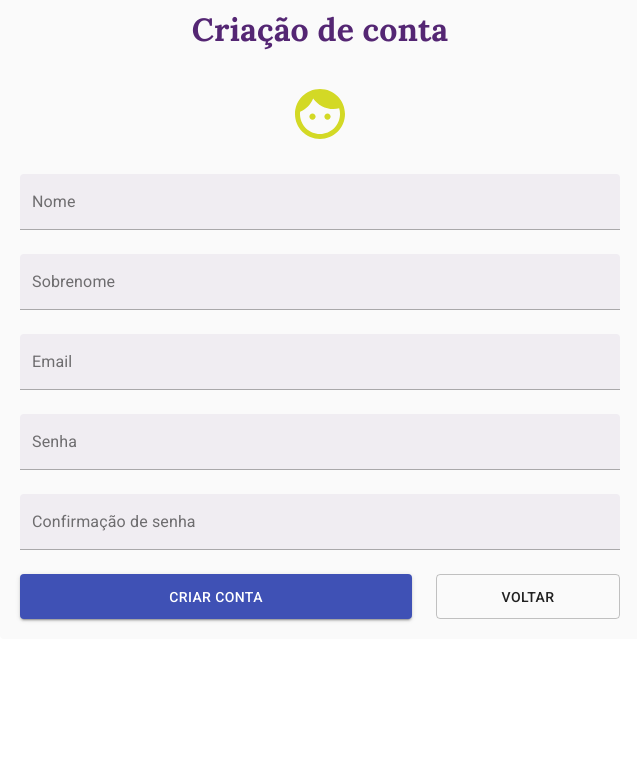
Test: should register user successfully when all fields is correctly filled
This screenshot has width=637, height=765.
Step 1. Type "Renato" into the field with id "register-user-first-name" → (320,202), box [20, 174, 620, 230]
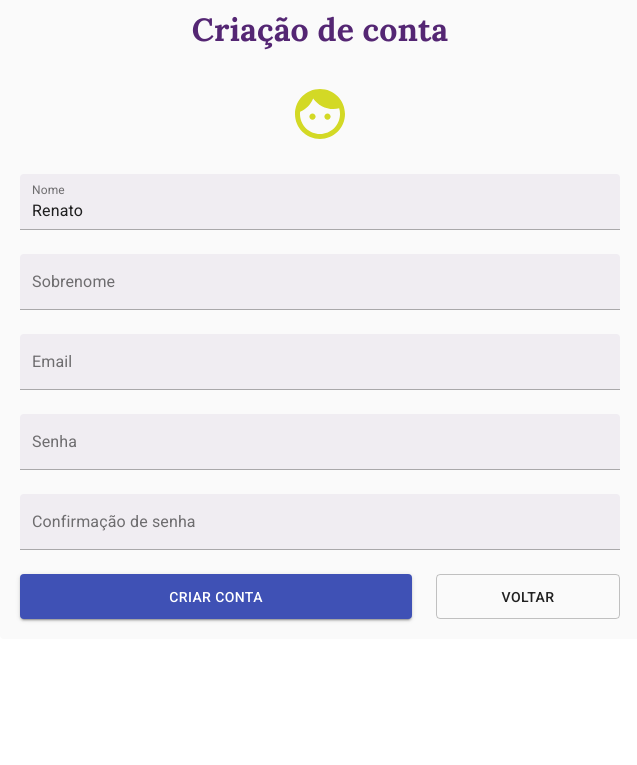
Step 2. Type "Veronese" into the field with id "register-user-second-name" → (320,282), box [20, 254, 620, 310]
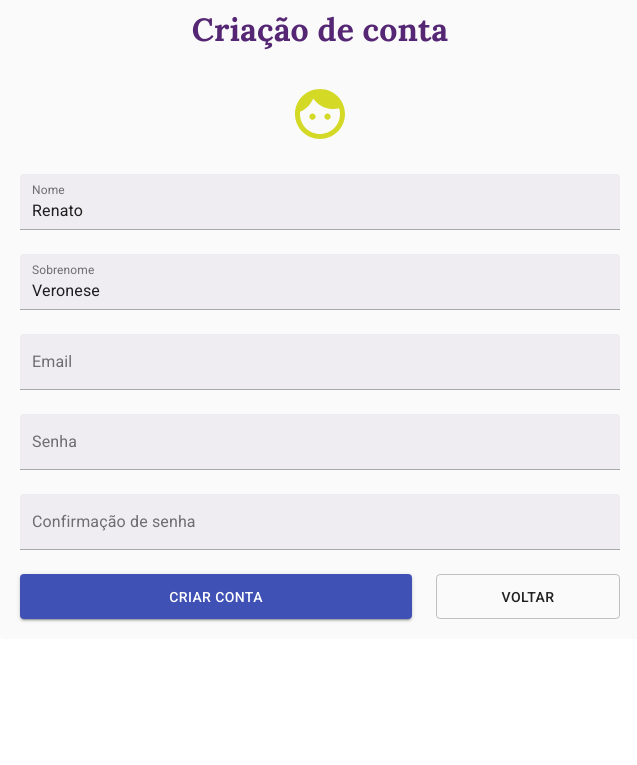
Step 3. Type "renatop@hotmail.com.br" into the field with id "register-user-email" → (320,362), box [20, 334, 620, 390]
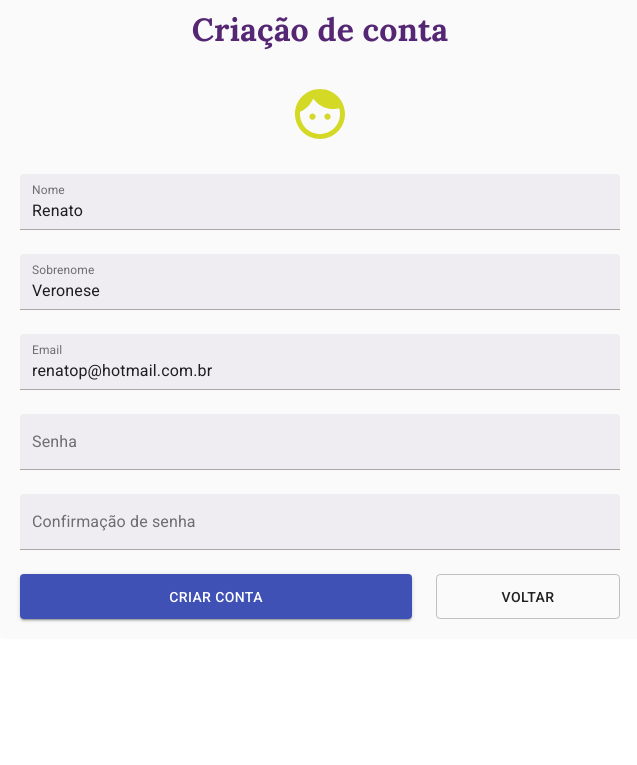
Step 4. Type "renatop" into the password field with id "register-user-password" → (320,442), box [20, 414, 620, 470]
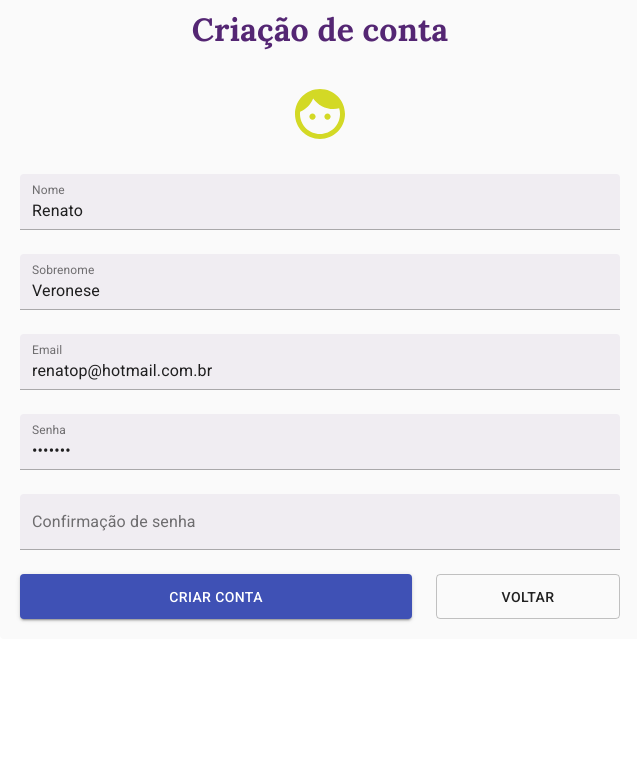
Step 5. Type "renatop" into the password field with id "register-user-confirmation-password" → (320,522), box [20, 494, 620, 550]
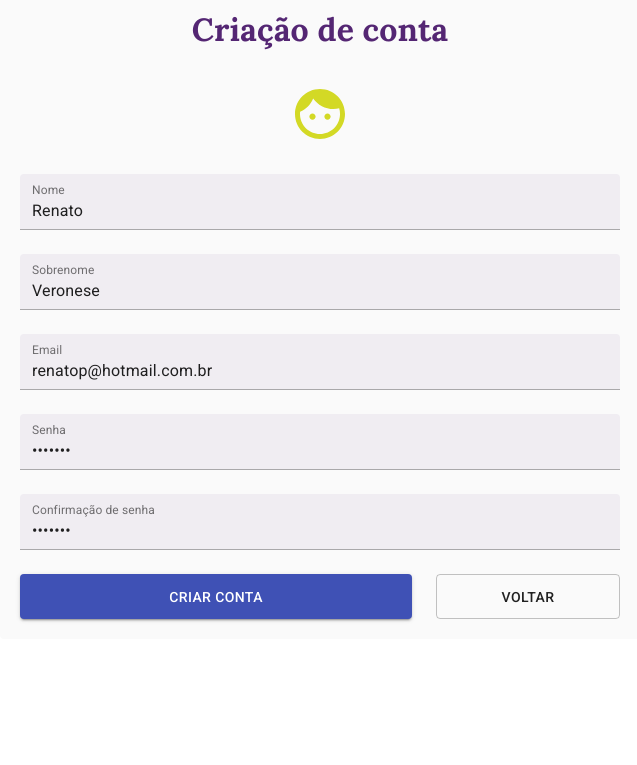
Step 6. Click the button with id "register-button" → (216,597), box [20, 574, 412, 619]
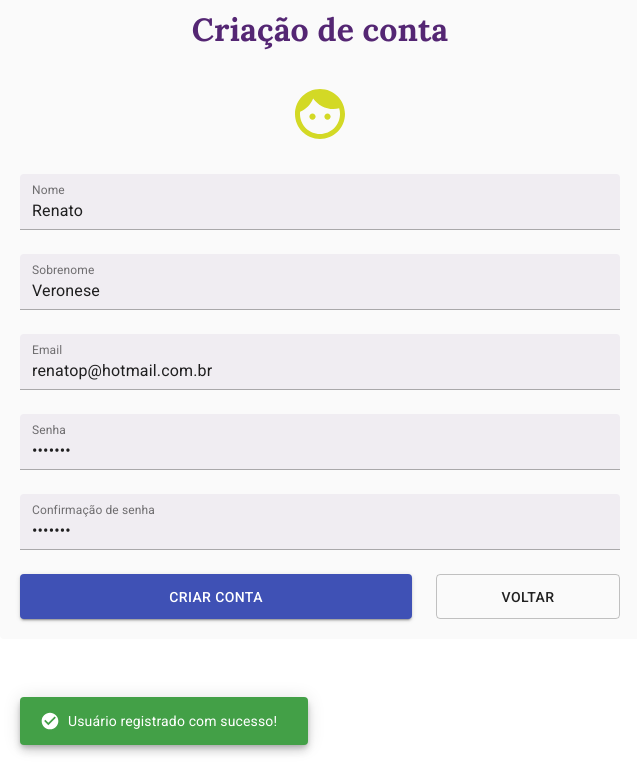
Now the text "Usuário registrado com sucesso!" is shown, box [40, 711, 277, 731]
